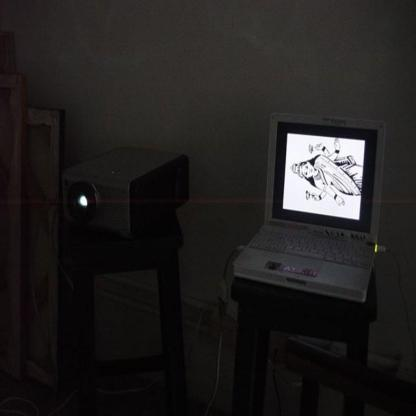board: (233, 100, 384, 319)
